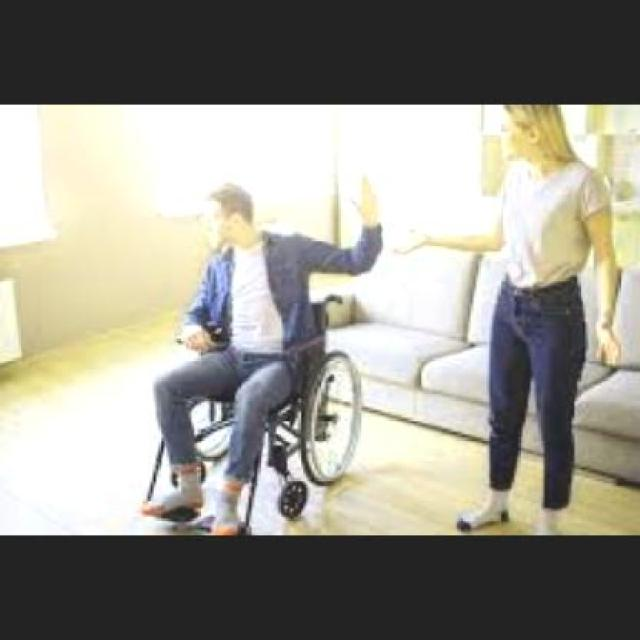wheelchairs: (149, 285, 361, 530)
